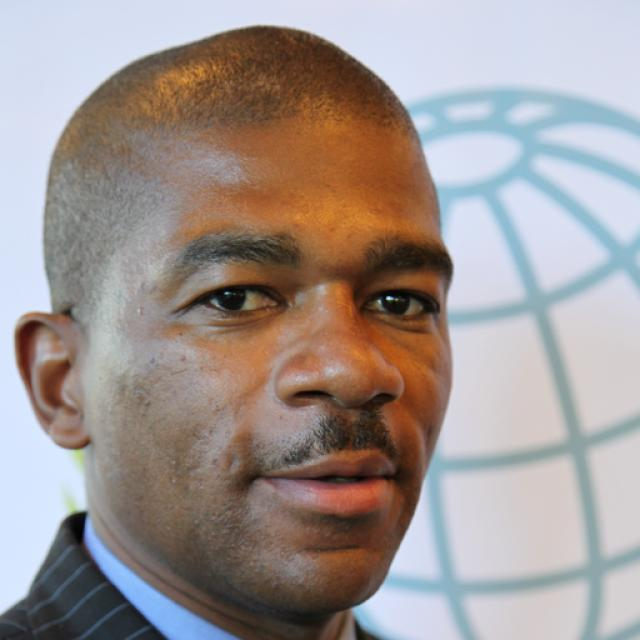neutral: (86, 99, 455, 614)
